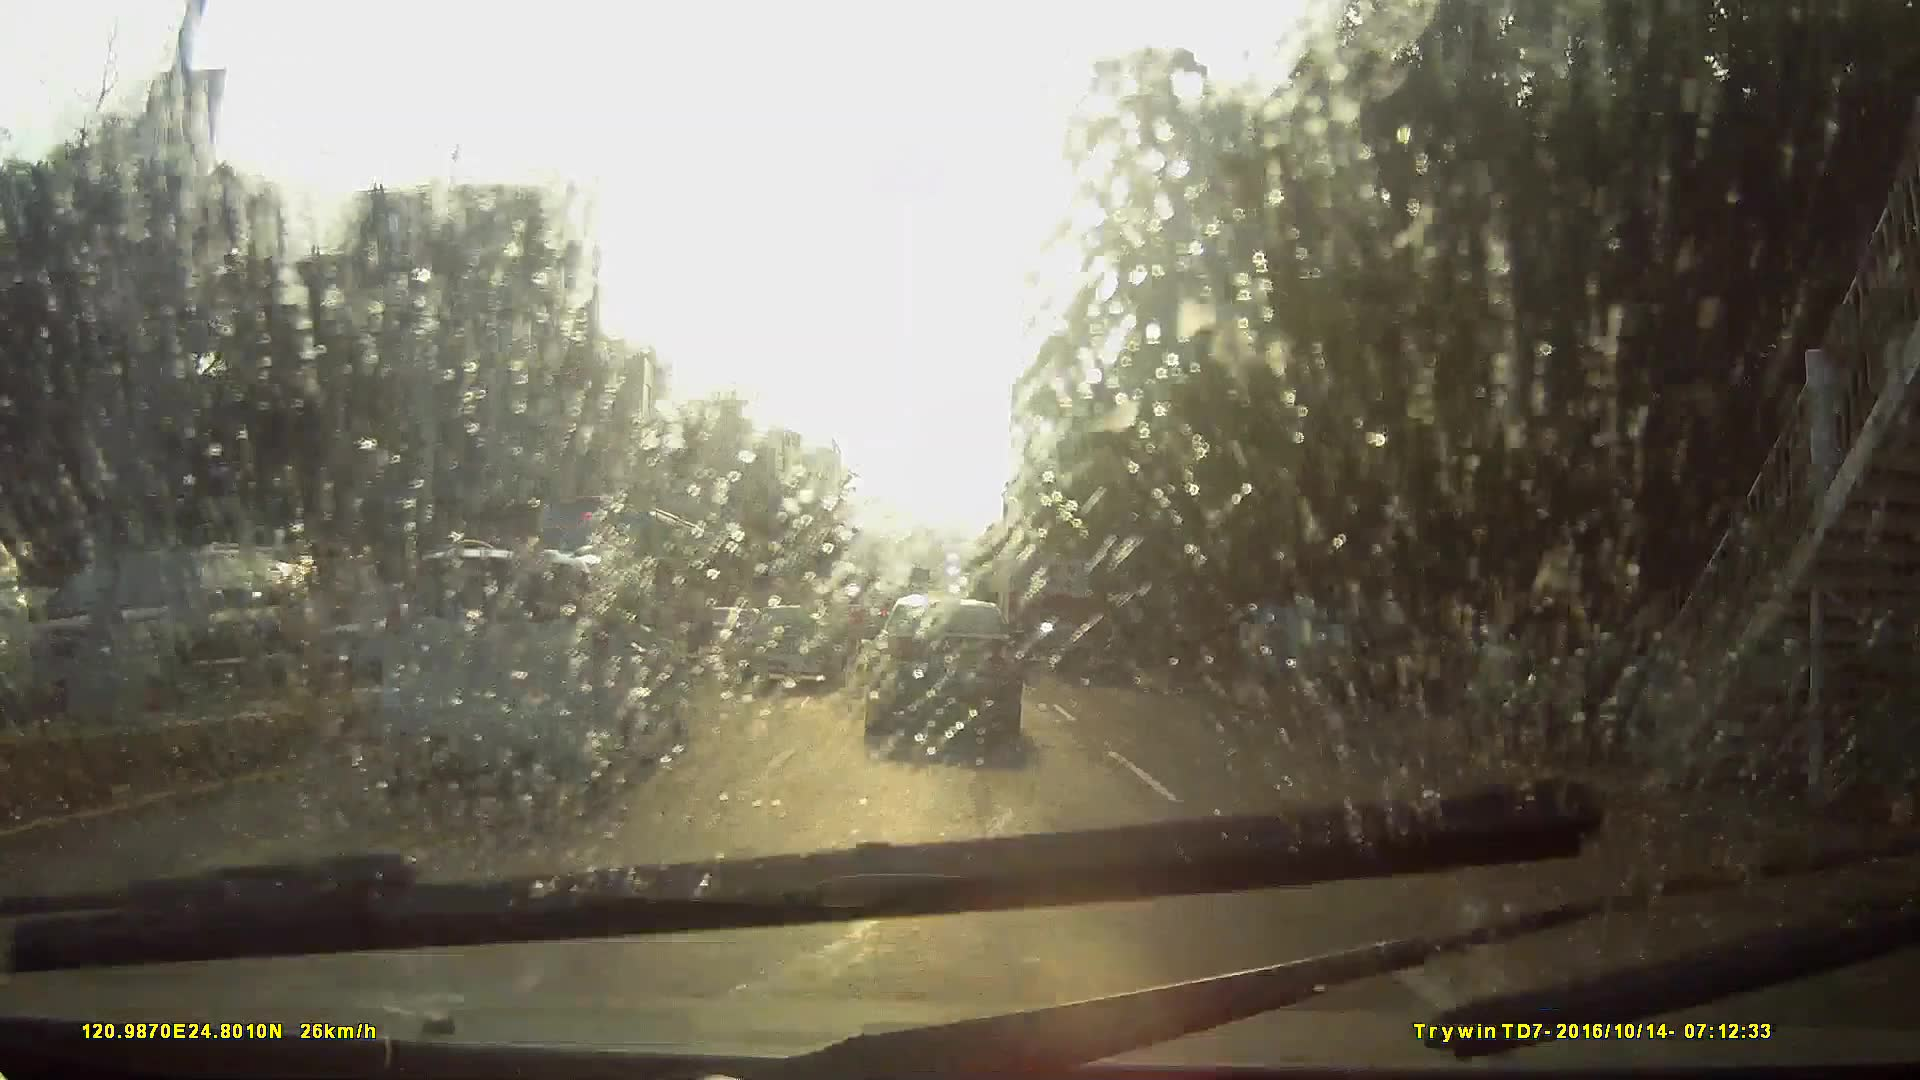vehicle: (251, 556, 684, 868), (380, 543, 695, 793), (500, 493, 723, 663), (864, 593, 1023, 758), (996, 556, 1100, 682), (735, 608, 845, 694), (866, 638, 915, 687)
